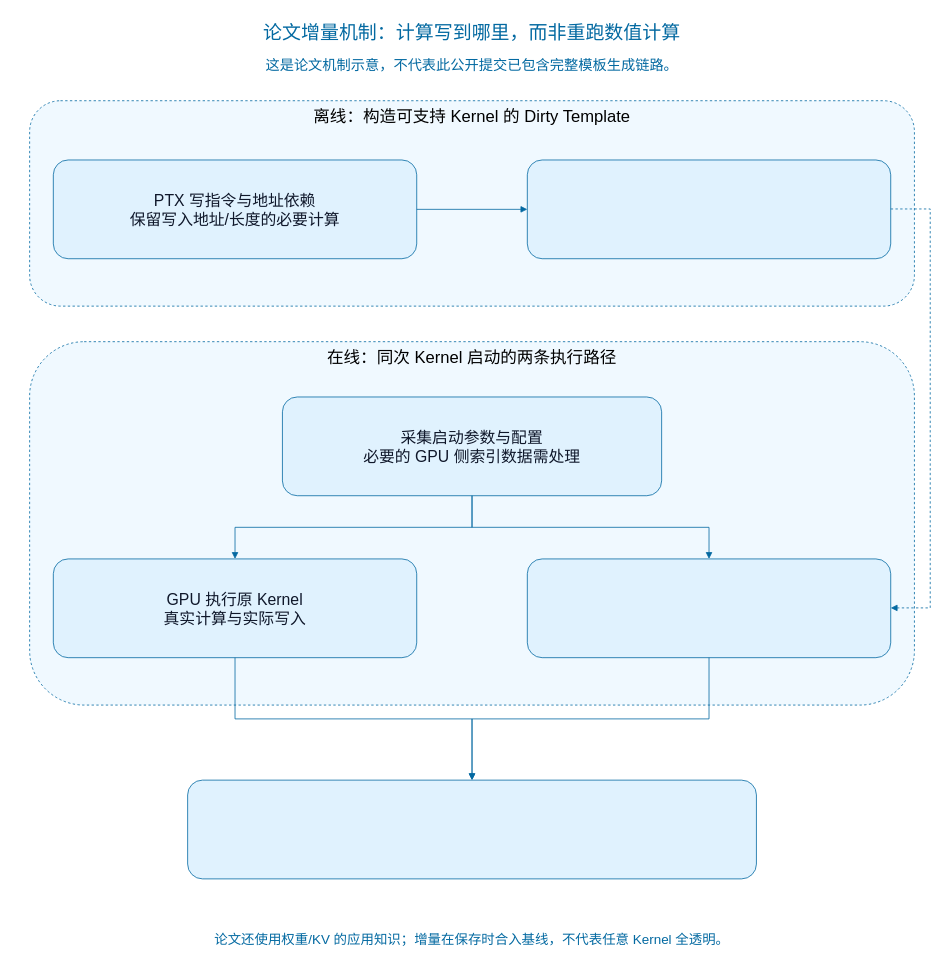
This 950x967 diagram has some shape labels left out. Here are the shapes that lost their labels. From the top down, the centre of each, then its label:
point (709, 209): CPU 可执行模板 依赖参数及 launch 配置
point (709, 608): CPU 执行模板 生成/合并 dirty ranges
point (471, 829): 一致性边界后保存变化范围 漏记不可接受；无法安全分析时保守回退
